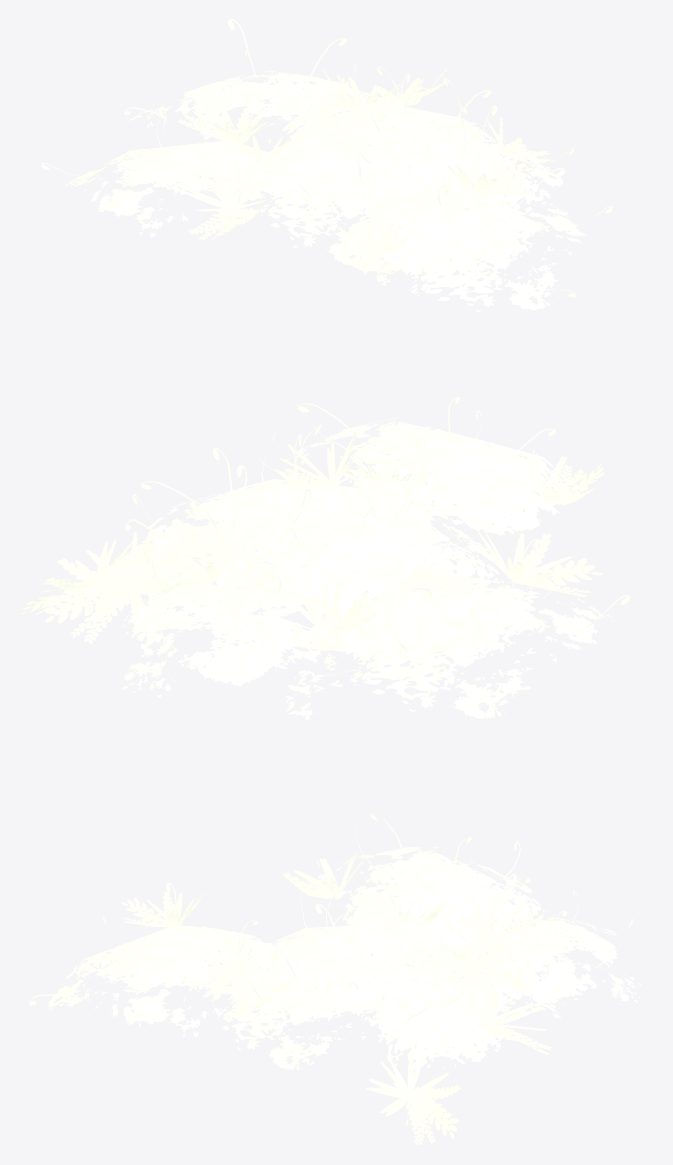
3 renders of one model, top to bottom at view 1: azimuth 30°, elevation 25°; view 2: azimuth 150°, elevation 25°; view 3: azimuth 270°, elevation 25°, orthographic. The views are drawn at different scales.
Visible parts, largest first — view 1: SM_BM_Moss_01_LOD0; view 2: SM_BM_Moss_01_LOD0; view 3: SM_BM_Moss_01_LOD0.
Part boxes in pixels (<box>): SM_BM_Moss_01_LOD0: <box>41,19,612,311</box>; SM_BM_Moss_01_LOD0: <box>20,396,629,720</box>; SM_BM_Moss_01_LOD0: <box>29,812,641,1144</box>.
Bounding box in the file's own units: 0.2573 × 0.0712 × 0.2725.
Materials: 1 (1 with a texture image).
